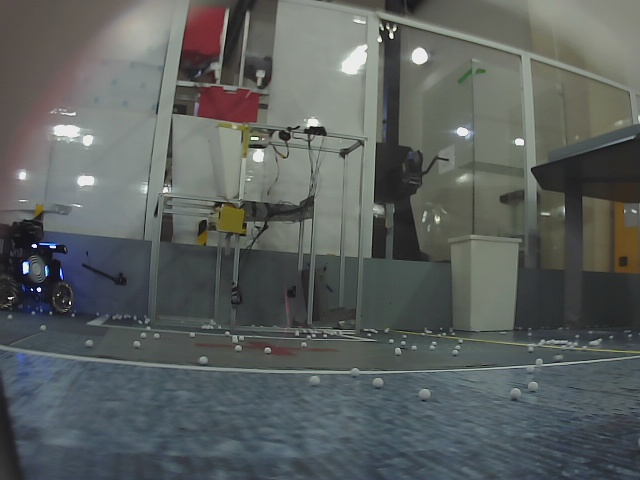lamp: (22, 260, 30, 276), (43, 264, 48, 276)
pair: (23, 261, 49, 278)
